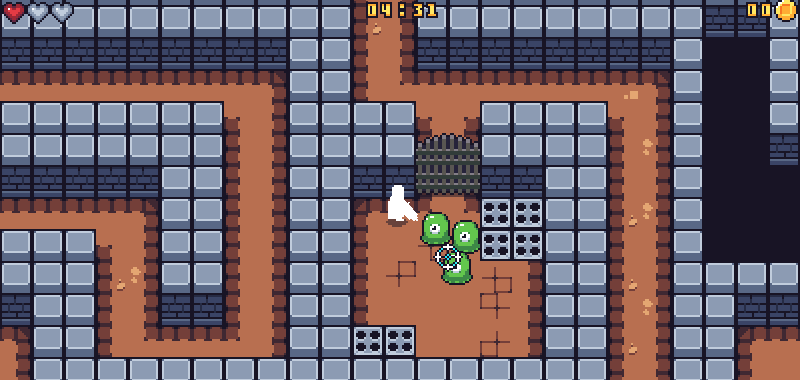enemy_slug_big: (440, 252, 473, 286), (419, 212, 452, 245), (452, 219, 480, 252)
trap_door: (413, 132, 483, 196)
trap_off: (480, 199, 544, 259), (353, 325, 416, 355)
